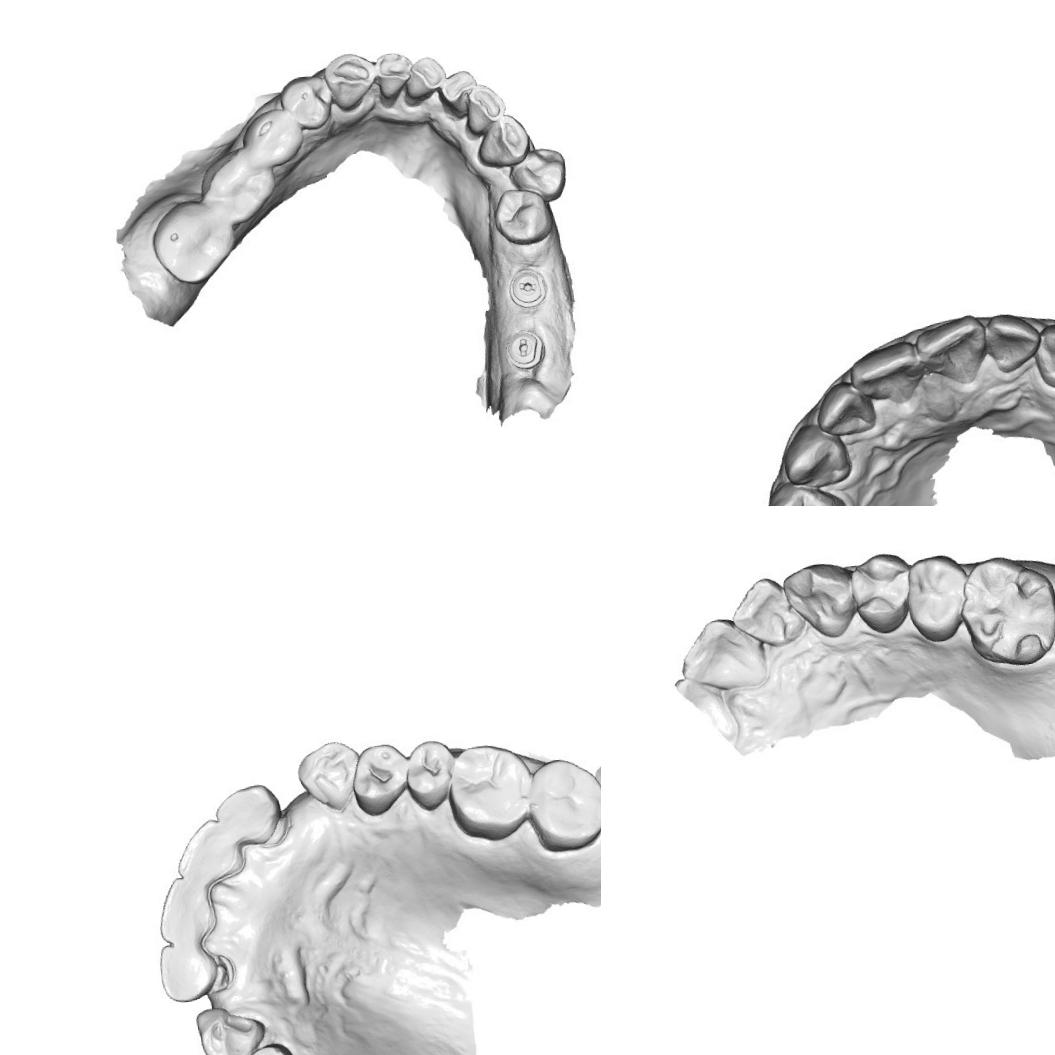canine: (780, 555, 866, 645), (292, 737, 364, 815), (192, 1001, 270, 1055), (781, 426, 848, 488), (320, 49, 378, 115), (473, 112, 532, 175), (1032, 320, 1055, 388)
implant_minus: (502, 327, 547, 371), (506, 265, 549, 310)
incisor: (676, 612, 772, 692), (724, 572, 804, 650), (917, 316, 992, 394), (171, 815, 248, 888), (152, 872, 224, 949), (210, 780, 286, 851), (155, 936, 225, 1006), (852, 344, 928, 408), (983, 310, 1044, 377), (820, 381, 878, 439), (460, 78, 508, 138), (433, 67, 479, 122), (402, 52, 450, 102), (373, 47, 414, 100)
molar: (954, 551, 1055, 672), (442, 738, 536, 846), (146, 196, 239, 290), (523, 752, 601, 856), (200, 151, 277, 220)
premolar: (904, 550, 975, 647), (851, 548, 918, 634), (346, 738, 415, 820), (488, 184, 558, 248), (402, 737, 458, 813), (240, 105, 307, 167), (509, 144, 570, 204), (276, 72, 334, 133), (763, 477, 847, 506), (228, 1040, 298, 1055)
